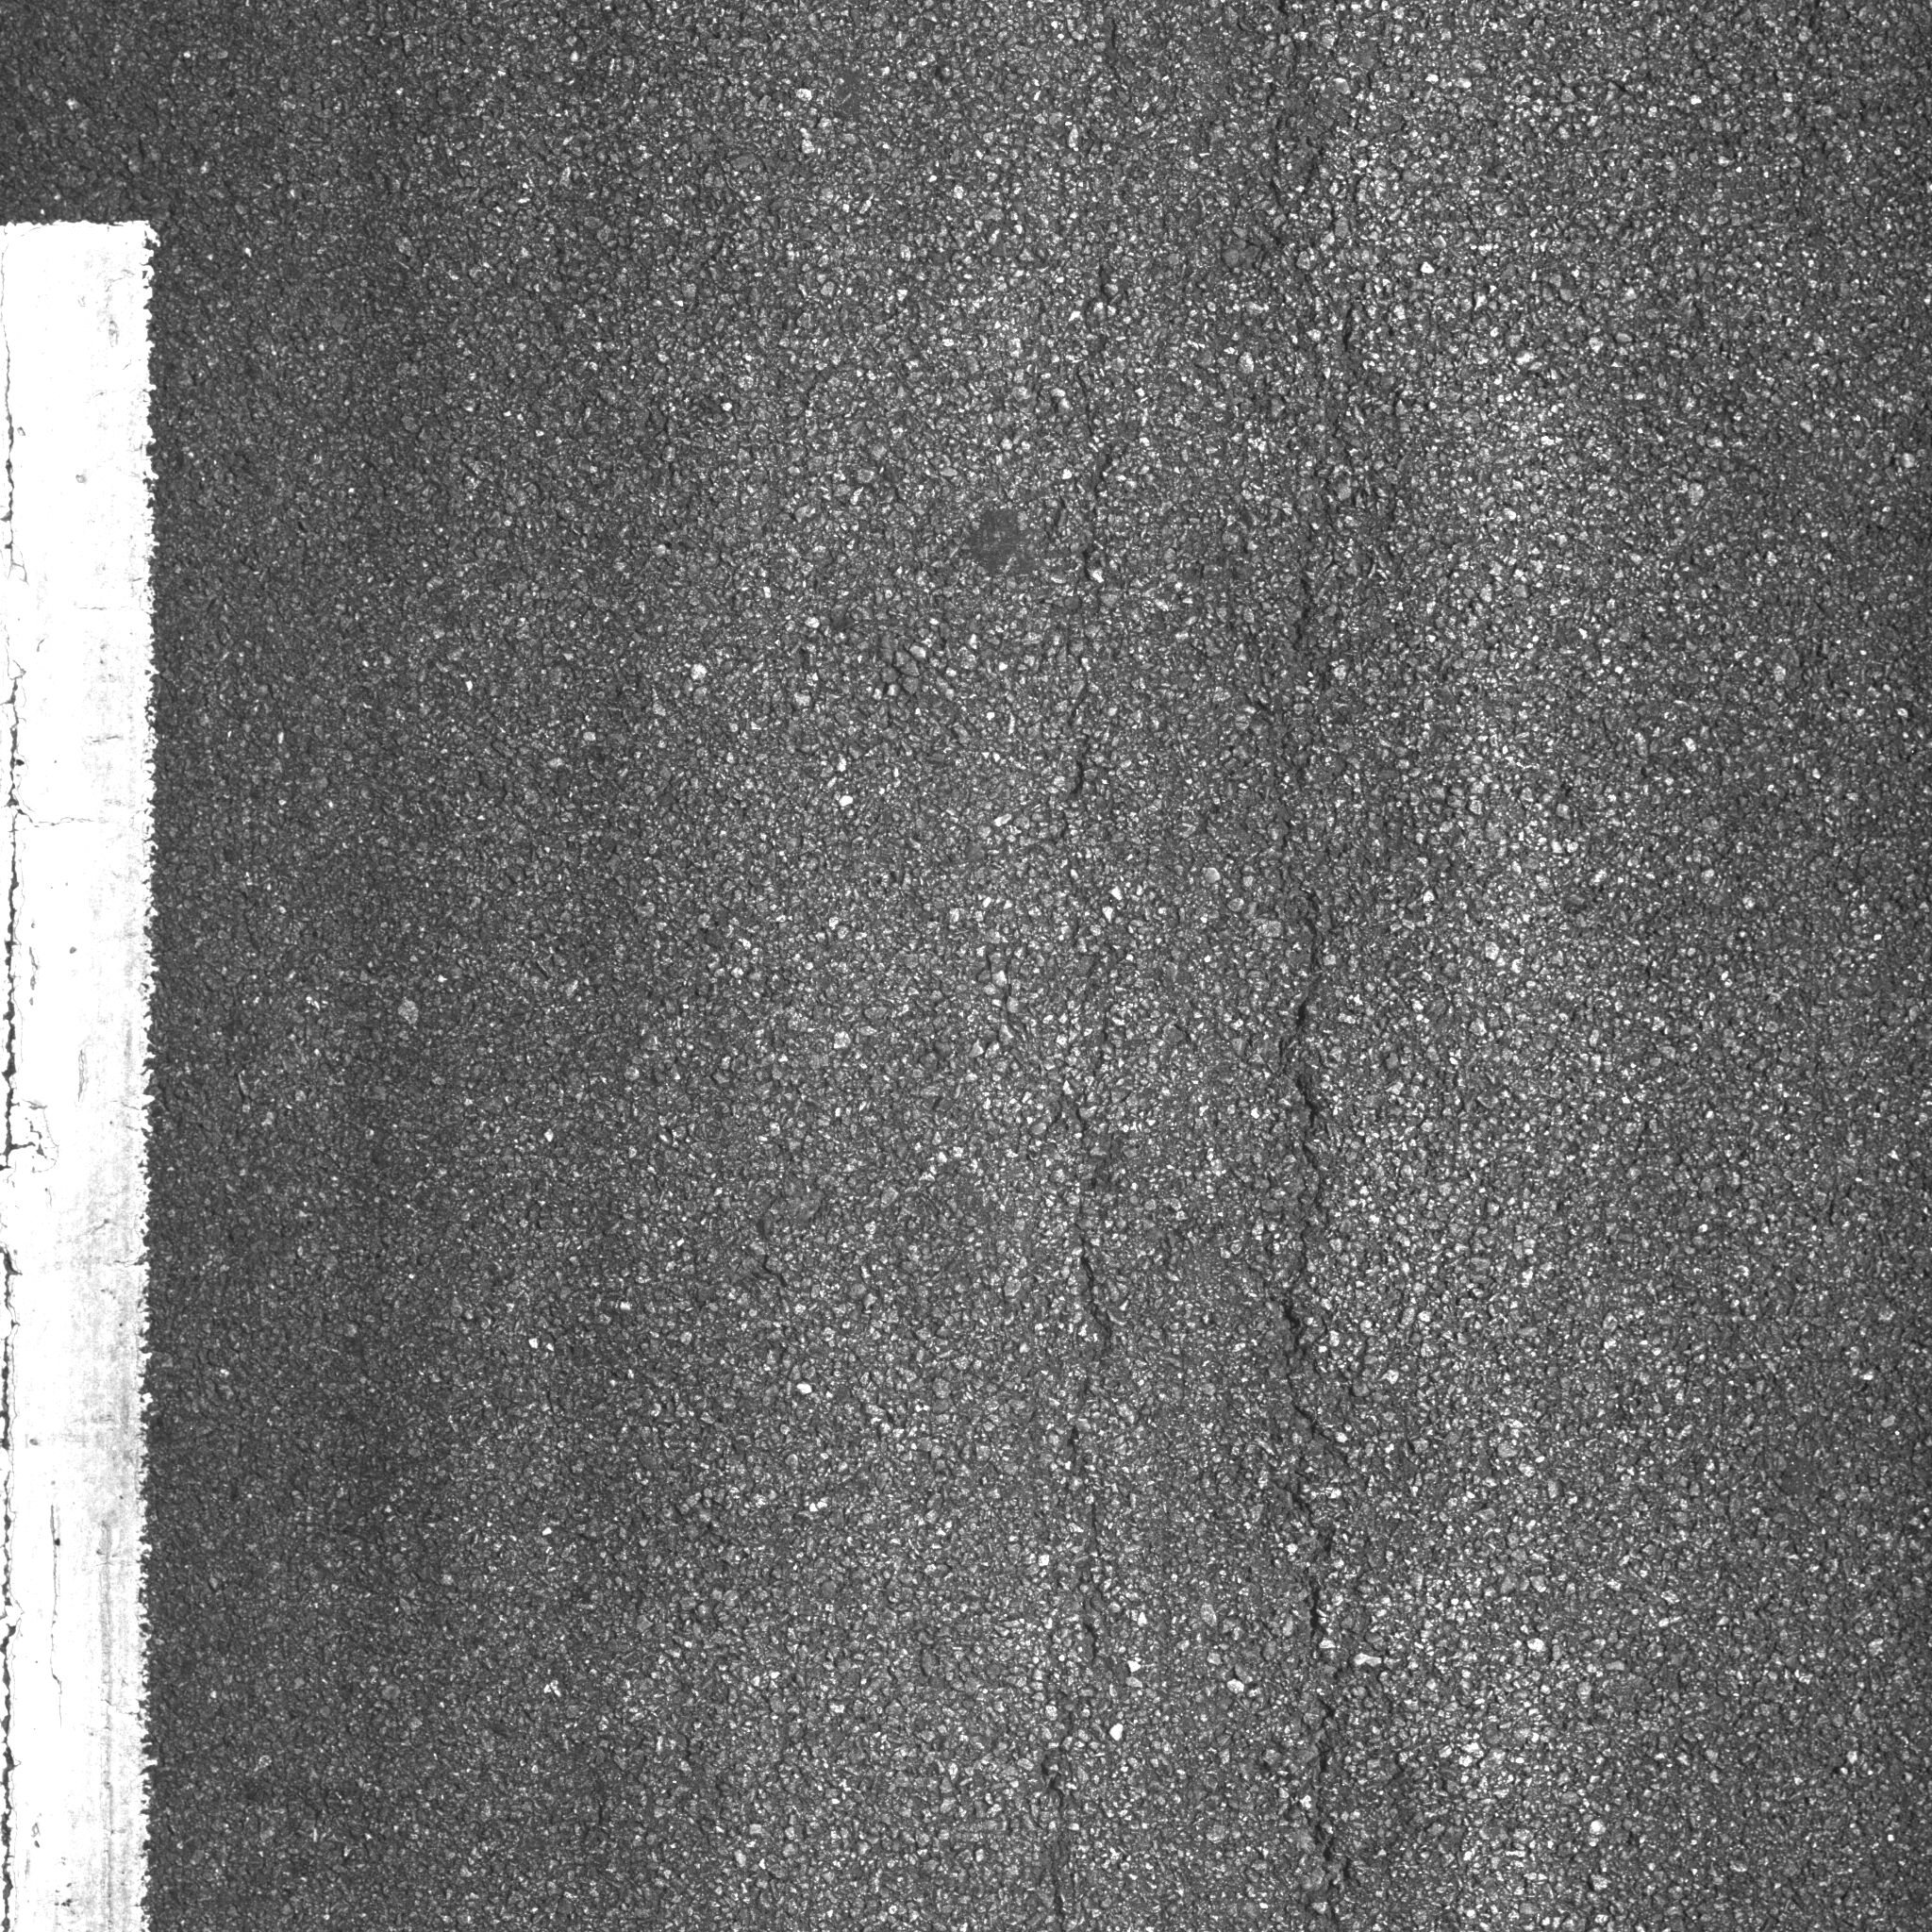longitudinal: (1244, 51, 1428, 1911), (1039, 4, 1143, 1927)
